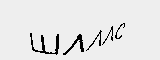Л: (64, 30, 86, 60), (87, 29, 105, 53), (102, 24, 115, 46)
С: (113, 19, 129, 44)
Ш: (29, 31, 61, 56)
